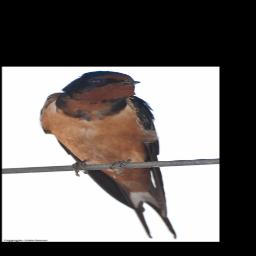Swallow: (38, 70, 179, 240)
